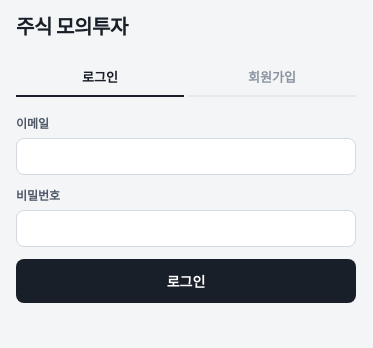
Test: 로그인 / 회원가입 화면(SPEC §8.1 #1) › 이메일 형식이 아니면 왕복 없이 바로 알려준다
In the field labelled "이메일": (186, 156) [16,138,356,175], type "not-an-email"
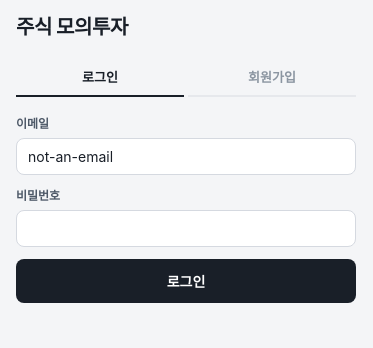
In the password field labelled "비밀번호": (186, 228) [16,210,356,247], type "verylongpassword"
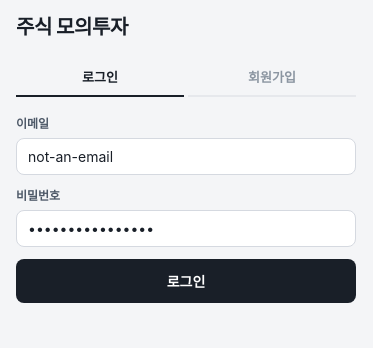
Click the button "로그인": (186, 281) [16,259,356,303]
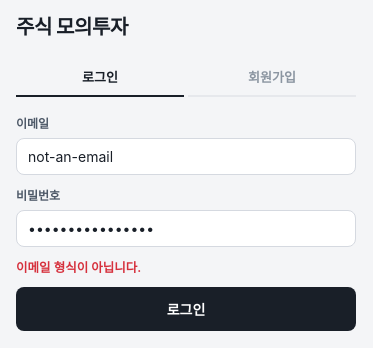
Result: the text "이메일 형식이 아닙니다." is shown at [16,260,141,275]
